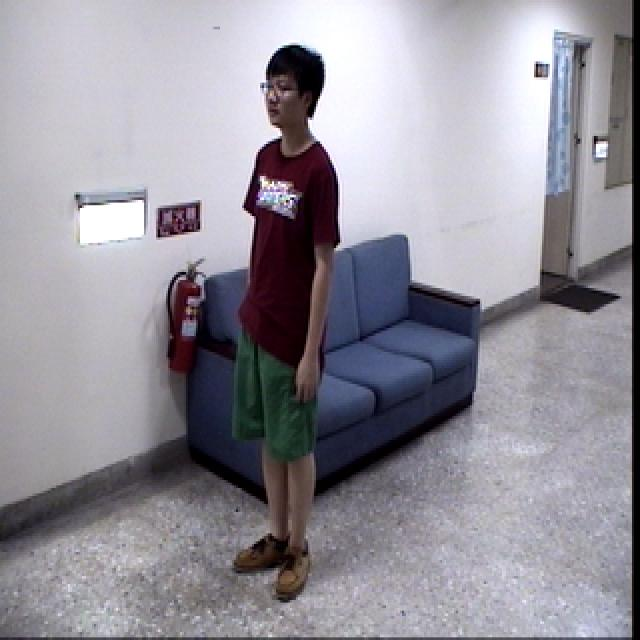stand: (218, 36, 355, 611)
